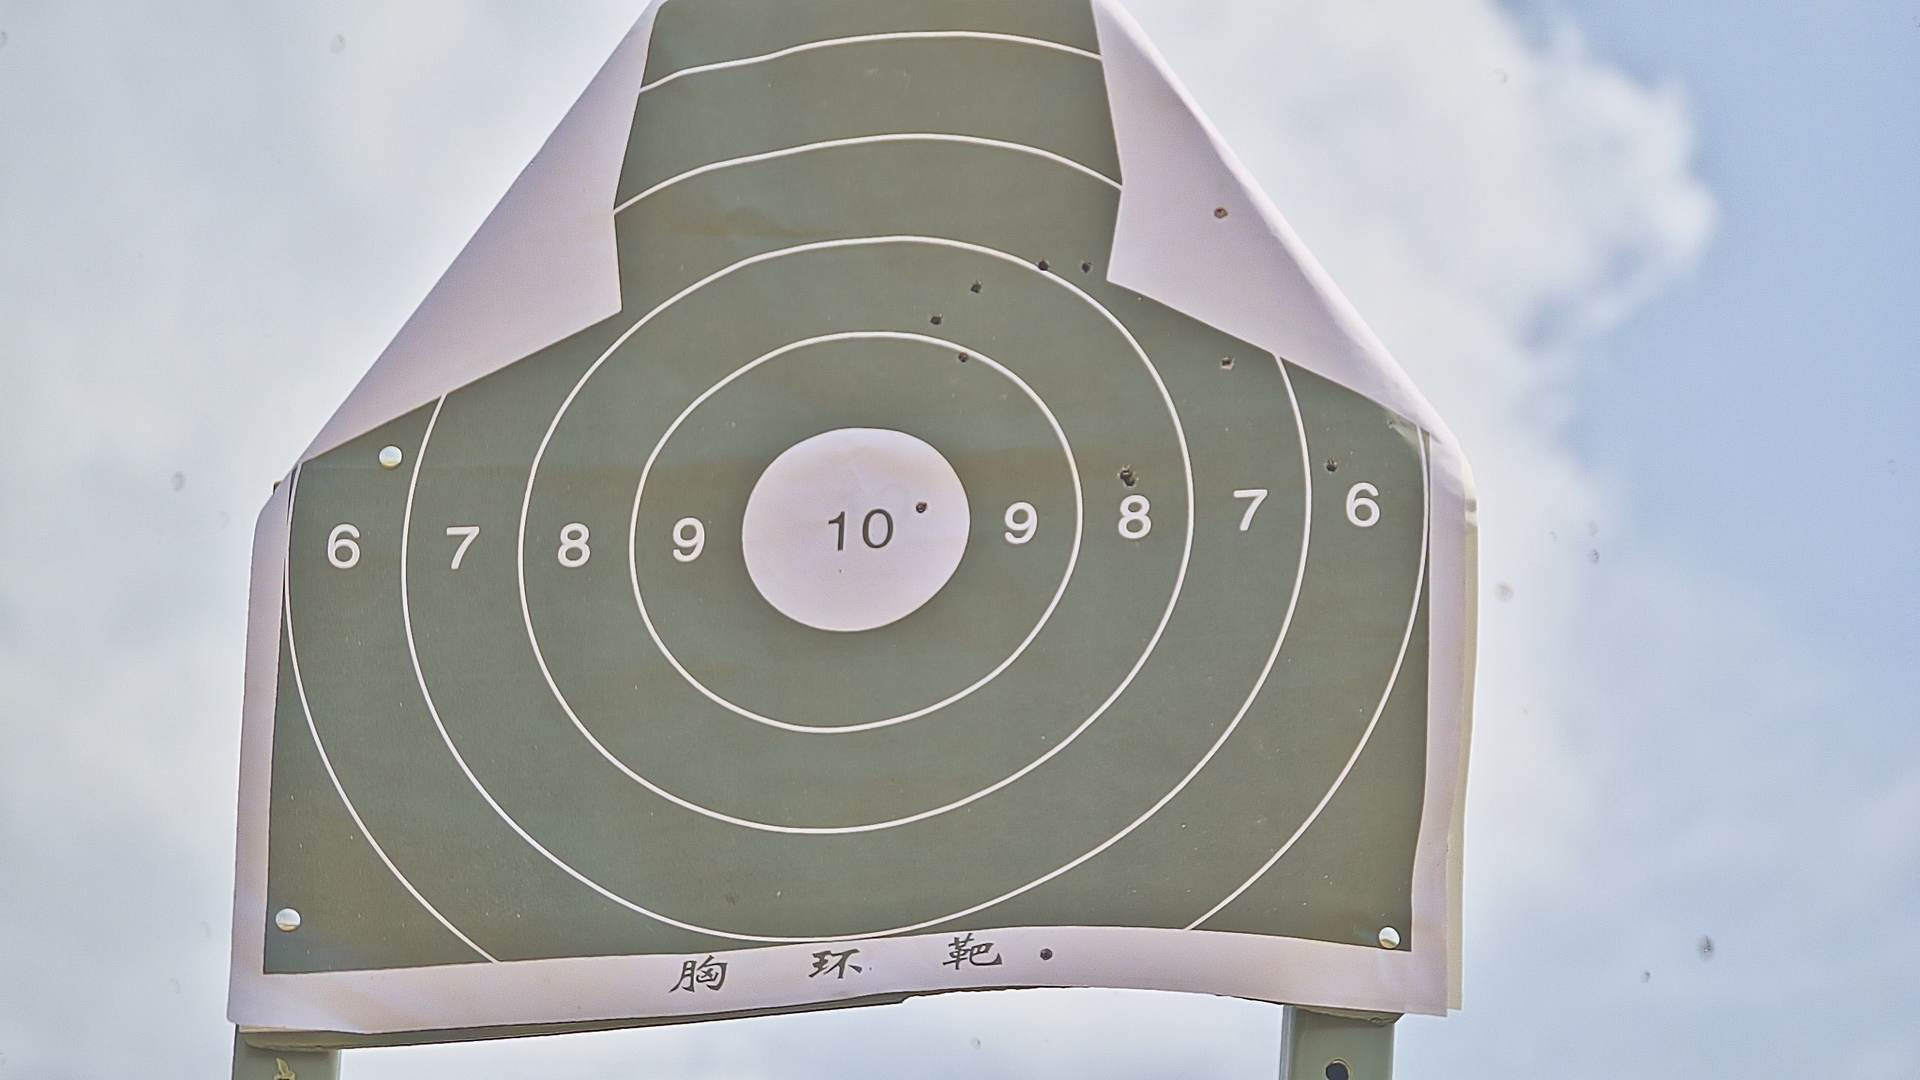hole: (1038, 947, 1058, 961), (1124, 475, 1139, 491), (1117, 465, 1134, 479), (914, 498, 928, 513), (957, 349, 971, 365), (1221, 356, 1234, 372), (1324, 460, 1340, 473), (971, 280, 984, 294), (1038, 258, 1051, 272), (931, 313, 944, 324), (1083, 260, 1093, 273)
kernel: (851, 531, 855, 538)
target: (262, 18, 1419, 953)
ten: (737, 422, 977, 636)
